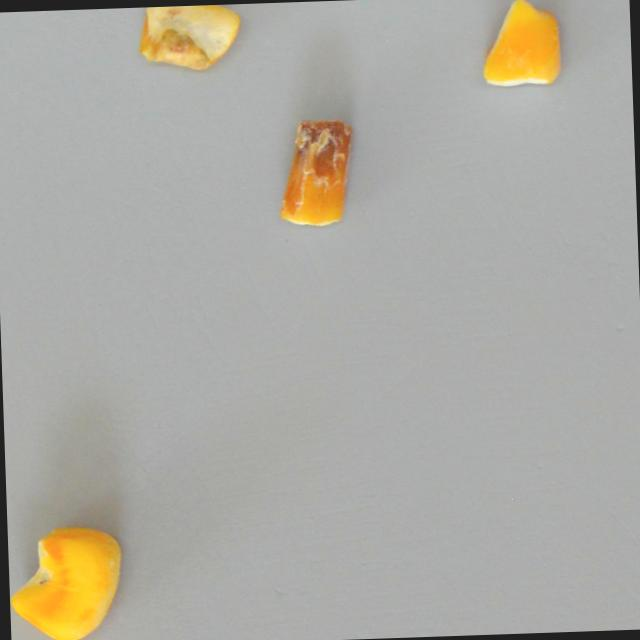dañado: (7, 524, 120, 640), (272, 114, 358, 227), (134, 2, 247, 83), (478, 0, 562, 87)
